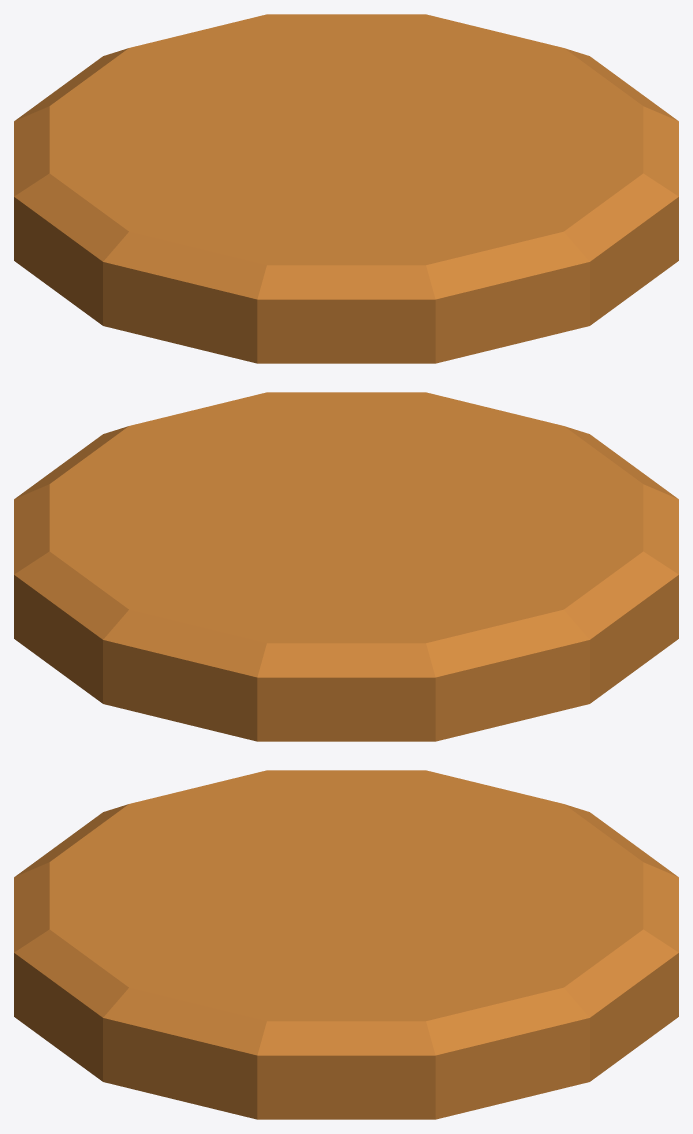
Rendered from écoutille_V2.fbx.
3 renders of one model, top to bottom at view 1: azimuth 30°, elevation 25°; view 2: azimuth 150°, elevation 25°; view 3: azimuth 270°, elevation 25°, orthographic.
Visible parts, largest first — view 1: cylinder; view 2: cylinder; view 3: cylinder.
Boxes of the visible parts, x1,y1,x2,y2 form: cylinder: (14, 14, 678, 363); cylinder: (14, 392, 678, 741); cylinder: (14, 770, 678, 1119).
Bounding box in the file's own units: 58.75 × 8.13 × 58.75.
